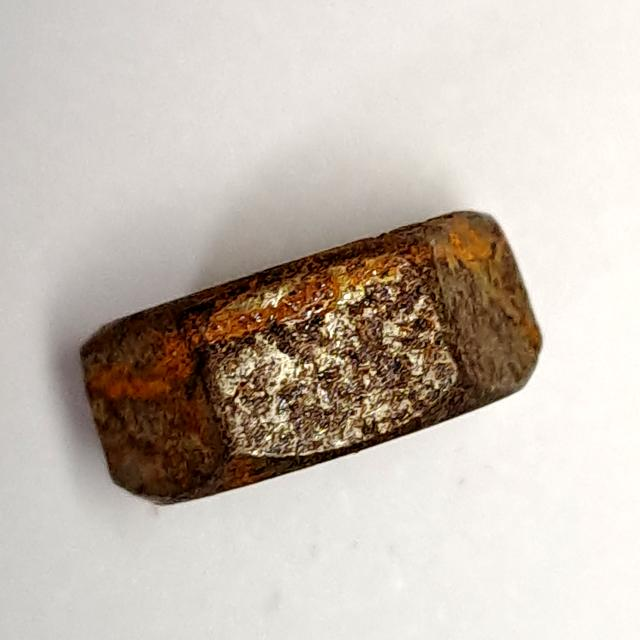Side_Rust: (59, 199, 553, 524)
